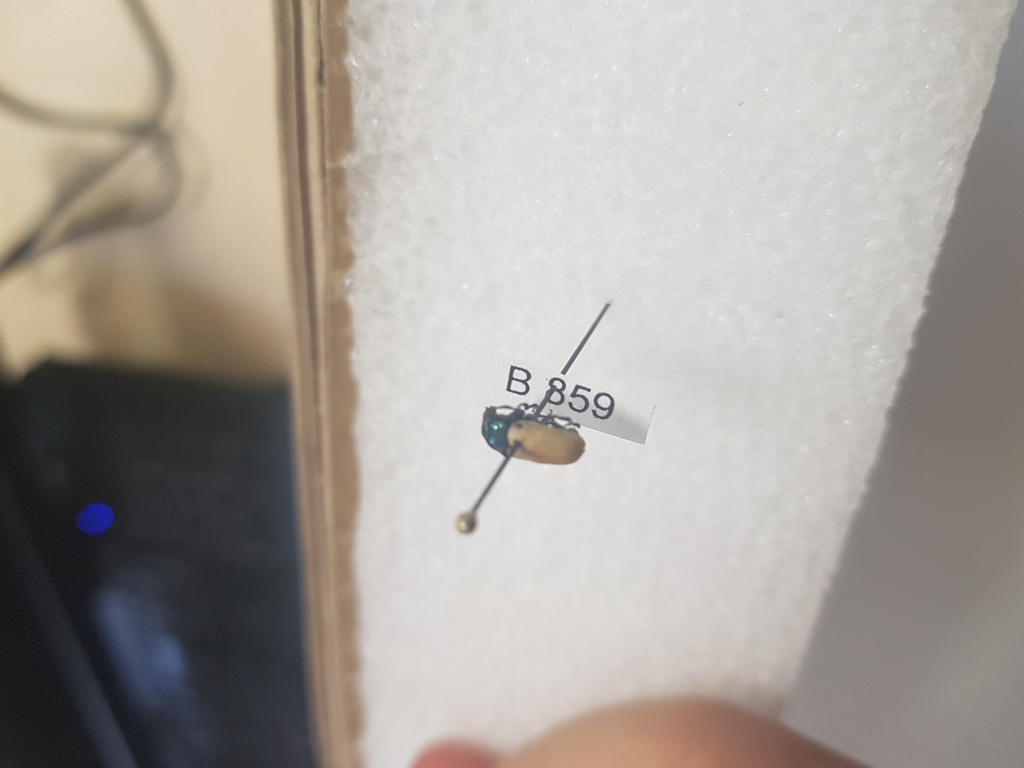Labidostomis_longimana: (477, 393, 592, 469)
